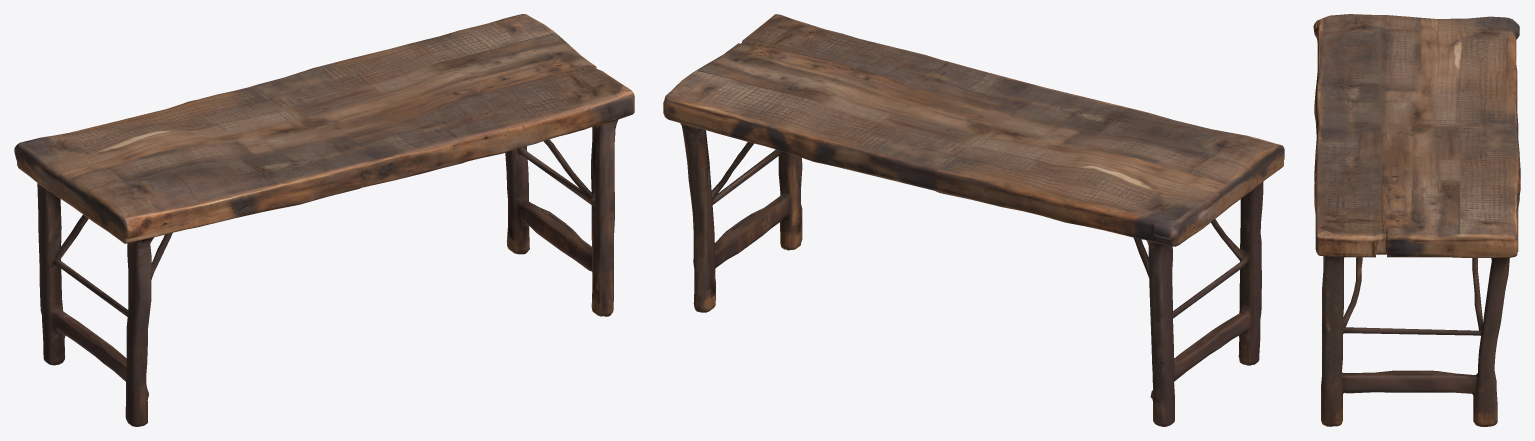
File: table2.glb
3 renders of one model, left to right at view 1: azimuth 30°, elevation 25°; view 2: azimuth 150°, elevation 25°; view 3: azimuth 270°, elevation 25°, orthographic. The views are drawn at different scales.
Visible parts, largest first — view 1: Mesh_0; view 2: Mesh_0; view 3: Mesh_0.
Part boxes in pixels (x1=…): Mesh_0: x1=14, y1=14, x2=634, y2=426; Mesh_0: x1=663, y1=14, x2=1284, y2=426; Mesh_0: x1=1313, y1=14, x2=1520, y2=426.
Size of the model in its own units: 2.88 by 1.2 by 1.12.
1 material, 1 textured.
